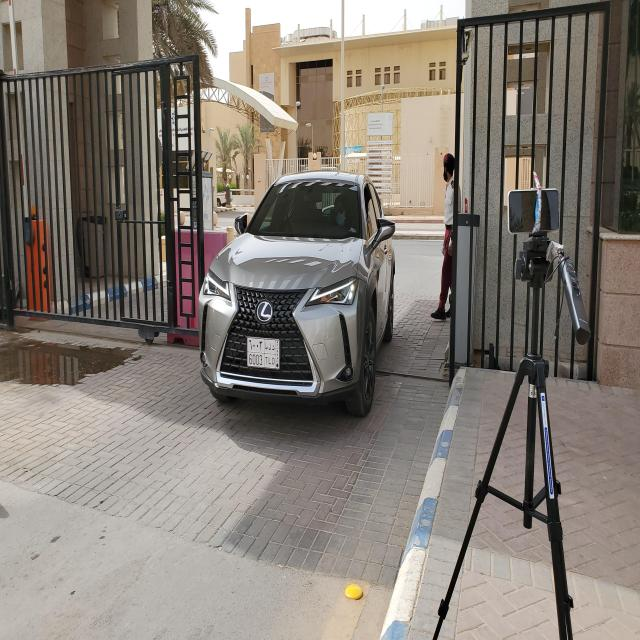license_plate: (246, 335, 280, 370)
